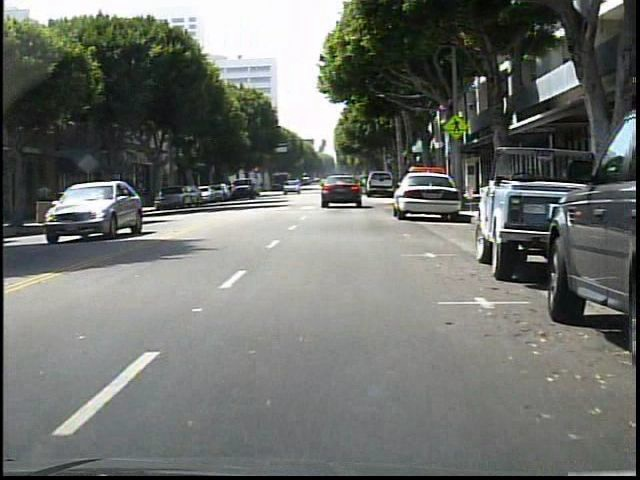person: (36, 179, 57, 225)
